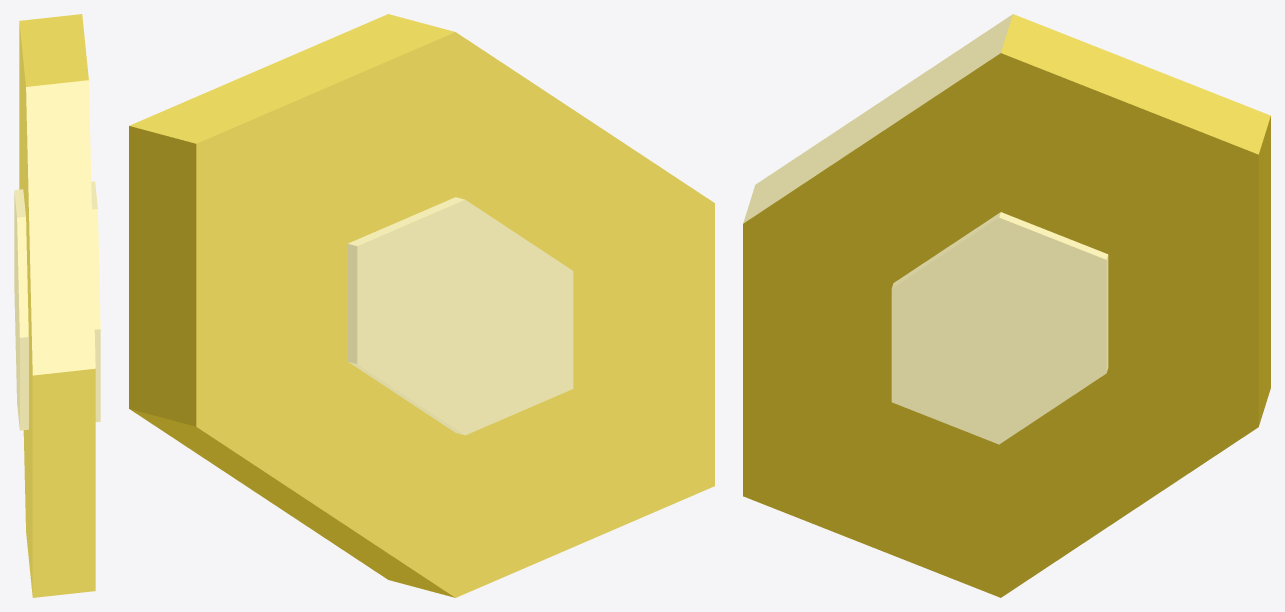
The model's file is Gem_2.gltf.
3 views of the same model, side by side, from view 1: azimuth 30°, elevation 25°; view 2: azimuth 150°, elevation 25°; view 3: azimuth 270°, elevation 25° (orthographic). The views are drawn at different scales.
Parts seen in each view (by area): view 1: Gem_2_baked; view 2: Gem_2_baked; view 3: Gem_2_baked.
Part boxes in pixels (<box>): Gem_2_baked: <box>14,14,100,597</box>; Gem_2_baked: <box>129,14,714,597</box>; Gem_2_baked: <box>743,14,1270,597</box>.
Size of the model in its own units: 0.2879 by 0.4839 by 0.4214.
